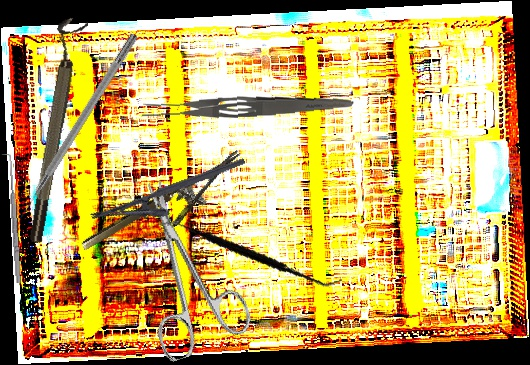Dressing Forceps: (139, 88, 355, 123)
Fixation Ring: (16, 15, 89, 245)
Hook Surgical: (12, 31, 140, 225), (0, 153, 24, 284)
Iris Scissors: (112, 166, 257, 364)
Needle Holder: (79, 149, 256, 272), (89, 157, 254, 241)
Spatula Surgical: (157, 188, 343, 317)
